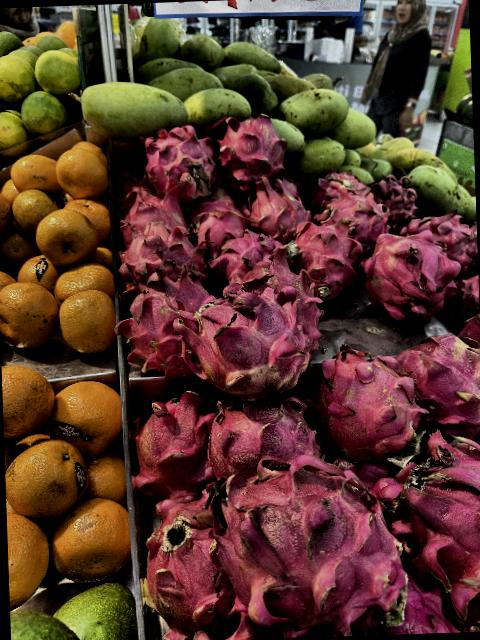buah-naga-belum-matang: (174, 278, 314, 400), (397, 330, 480, 430)
buah-naga-matang: (206, 458, 406, 636), (381, 436, 480, 595), (142, 483, 238, 640), (313, 349, 425, 458), (124, 260, 204, 373), (202, 398, 324, 468), (132, 388, 213, 490), (366, 235, 455, 322), (135, 120, 221, 192), (216, 114, 296, 185), (292, 216, 362, 294), (189, 194, 248, 259), (120, 225, 198, 273), (215, 254, 312, 292), (326, 192, 388, 240), (420, 212, 478, 263), (245, 186, 301, 236), (119, 188, 179, 225), (371, 172, 417, 218), (311, 168, 358, 198)
